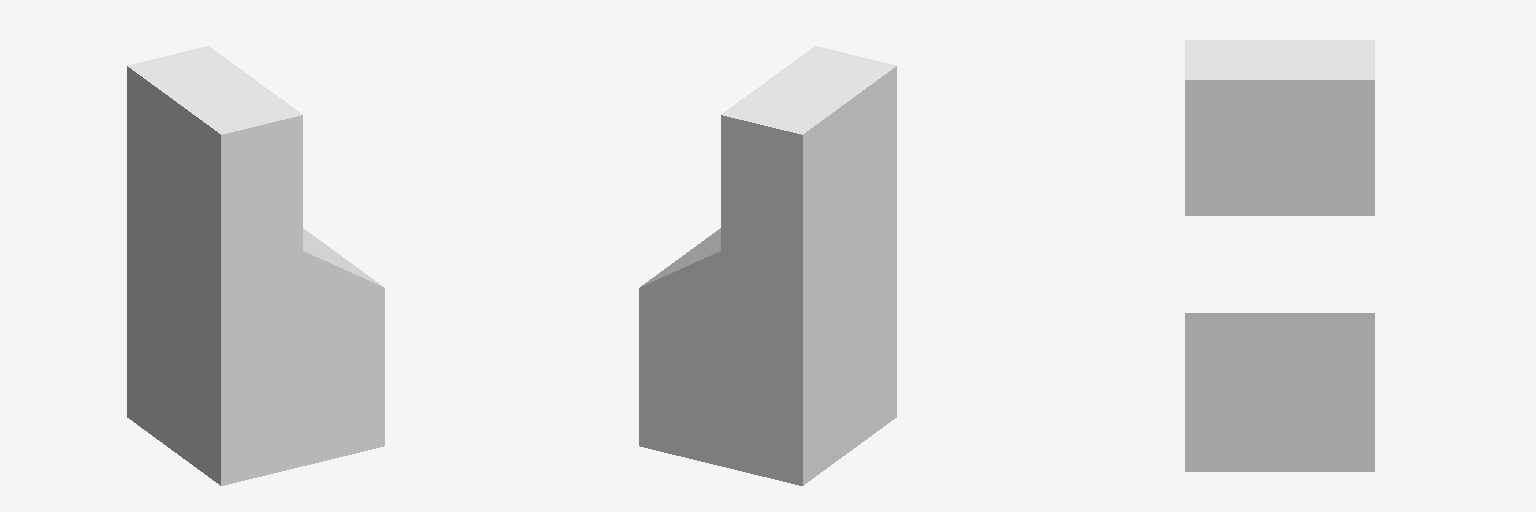
File: Terminal.obj
3 renders of one model, left to right at view 1: azimuth 30°, elevation 25°; view 2: azimuth 150°, elevation 25°; view 3: azimuth 270°, elevation 25°, orthographic.
Visible parts, largest first — view 1: Terminal; view 2: Terminal; view 3: Terminal.
Boxes of the visible parts, x1=… form: Terminal: x1=127, y1=46, x2=384, y2=485; Terminal: x1=639, y1=46, x2=896, y2=485; Terminal: x1=1185, y1=40, x2=1374, y2=471.
Size of the model in its own units: 1 by 2.05 by 1.